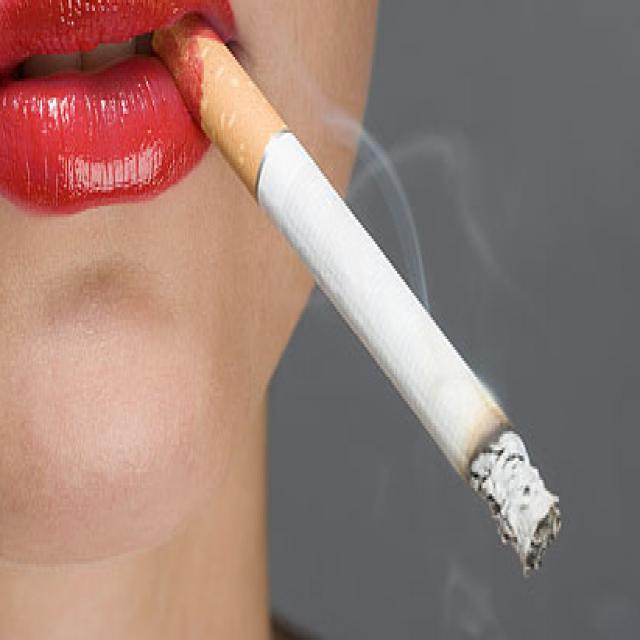smoking: (153, 10, 558, 573)
